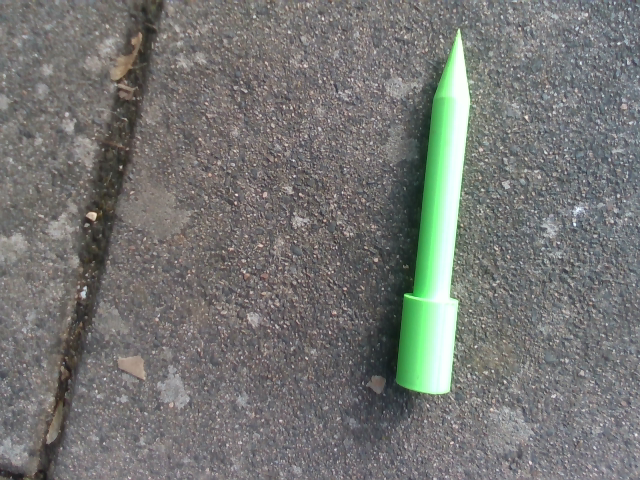Probe: (385, 17, 487, 403)
